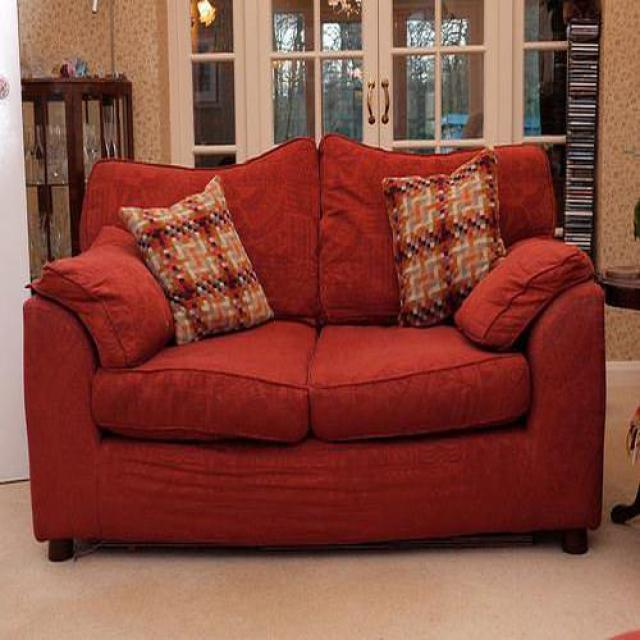sofa: (22, 136, 605, 562)
